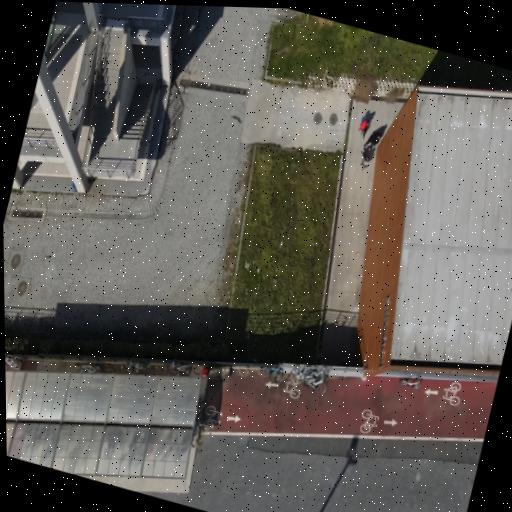person: (365, 126, 386, 147), (359, 111, 372, 139), (361, 145, 375, 169)
